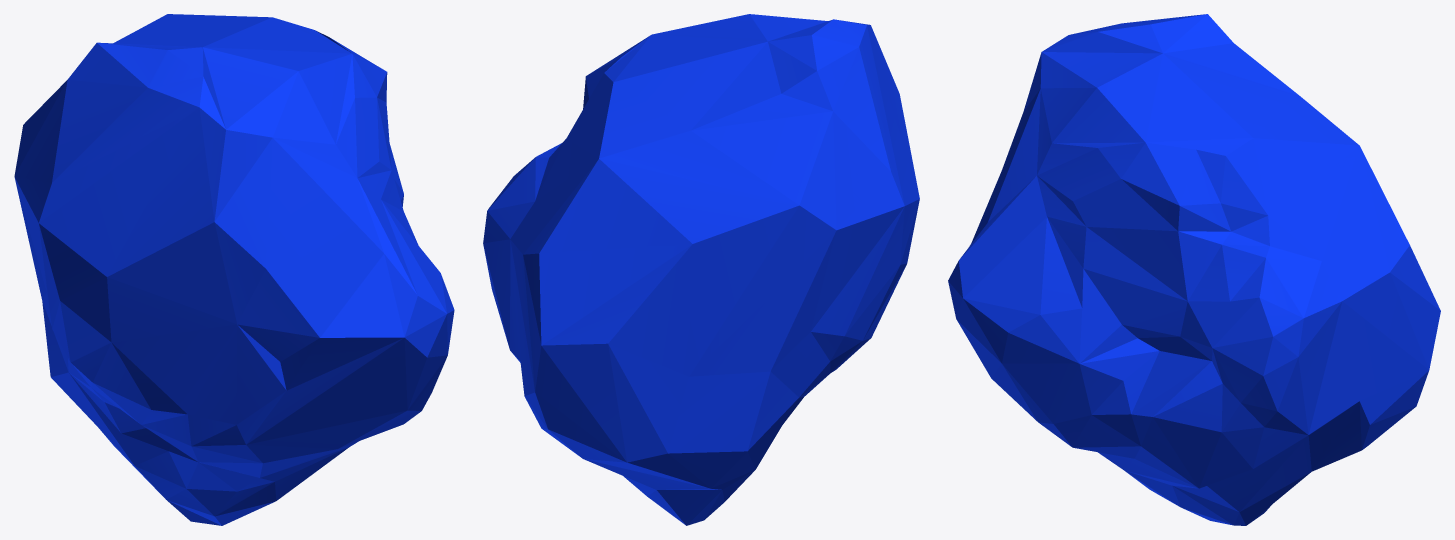
File: SM_emissive_rock_20.fbx
3 renders of one model, left to right at view 1: azimuth 30°, elevation 25°; view 2: azimuth 150°, elevation 25°; view 3: azimuth 270°, elevation 25°, orthographic. The views are drawn at different scales.
Visible parts, largest first — view 1: emissive_rock_20; view 2: emissive_rock_20; view 3: emissive_rock_20.
Boxes of the visible parts, x1,y1,x2,y2 form: emissive_rock_20: (14,14,454,525); emissive_rock_20: (483,14,919,525); emissive_rock_20: (948,14,1440,525).
Size of the model in its own units: 247 by 299 by 290.
